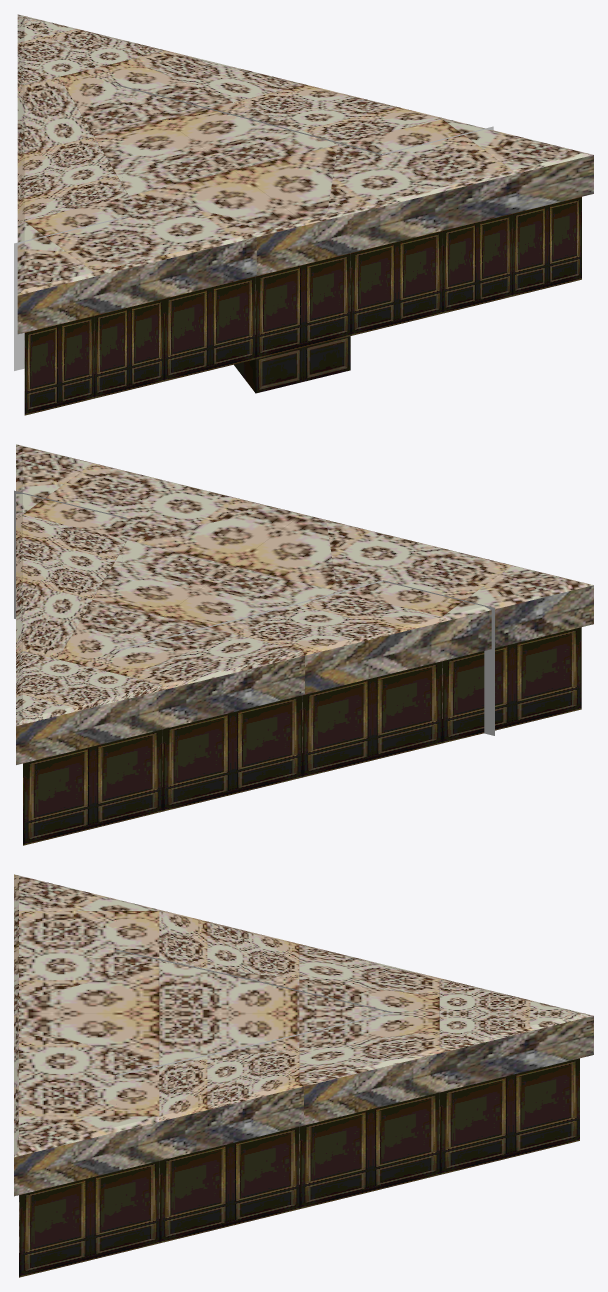
The model's file is RoomTri.fbx.
3 views of the same model, one above another, from view 1: azimuth 30°, elevation 25°; view 2: azimuth 150°, elevation 25°; view 3: azimuth 270°, elevation 25° (orthographic).
Parts seen in each view (by area): view 1: RoomTri; view 2: RoomTri; view 3: RoomTri.
Boxes of the visible parts, left/top/right/bottom form: RoomTri: left=14, top=14, right=593, bottom=415; RoomTri: left=14, top=444, right=593, bottom=845; RoomTri: left=14, top=874, right=593, bottom=1277.
Bounding box in the file's own units: 16.57 × 4.44 × 14.35.
